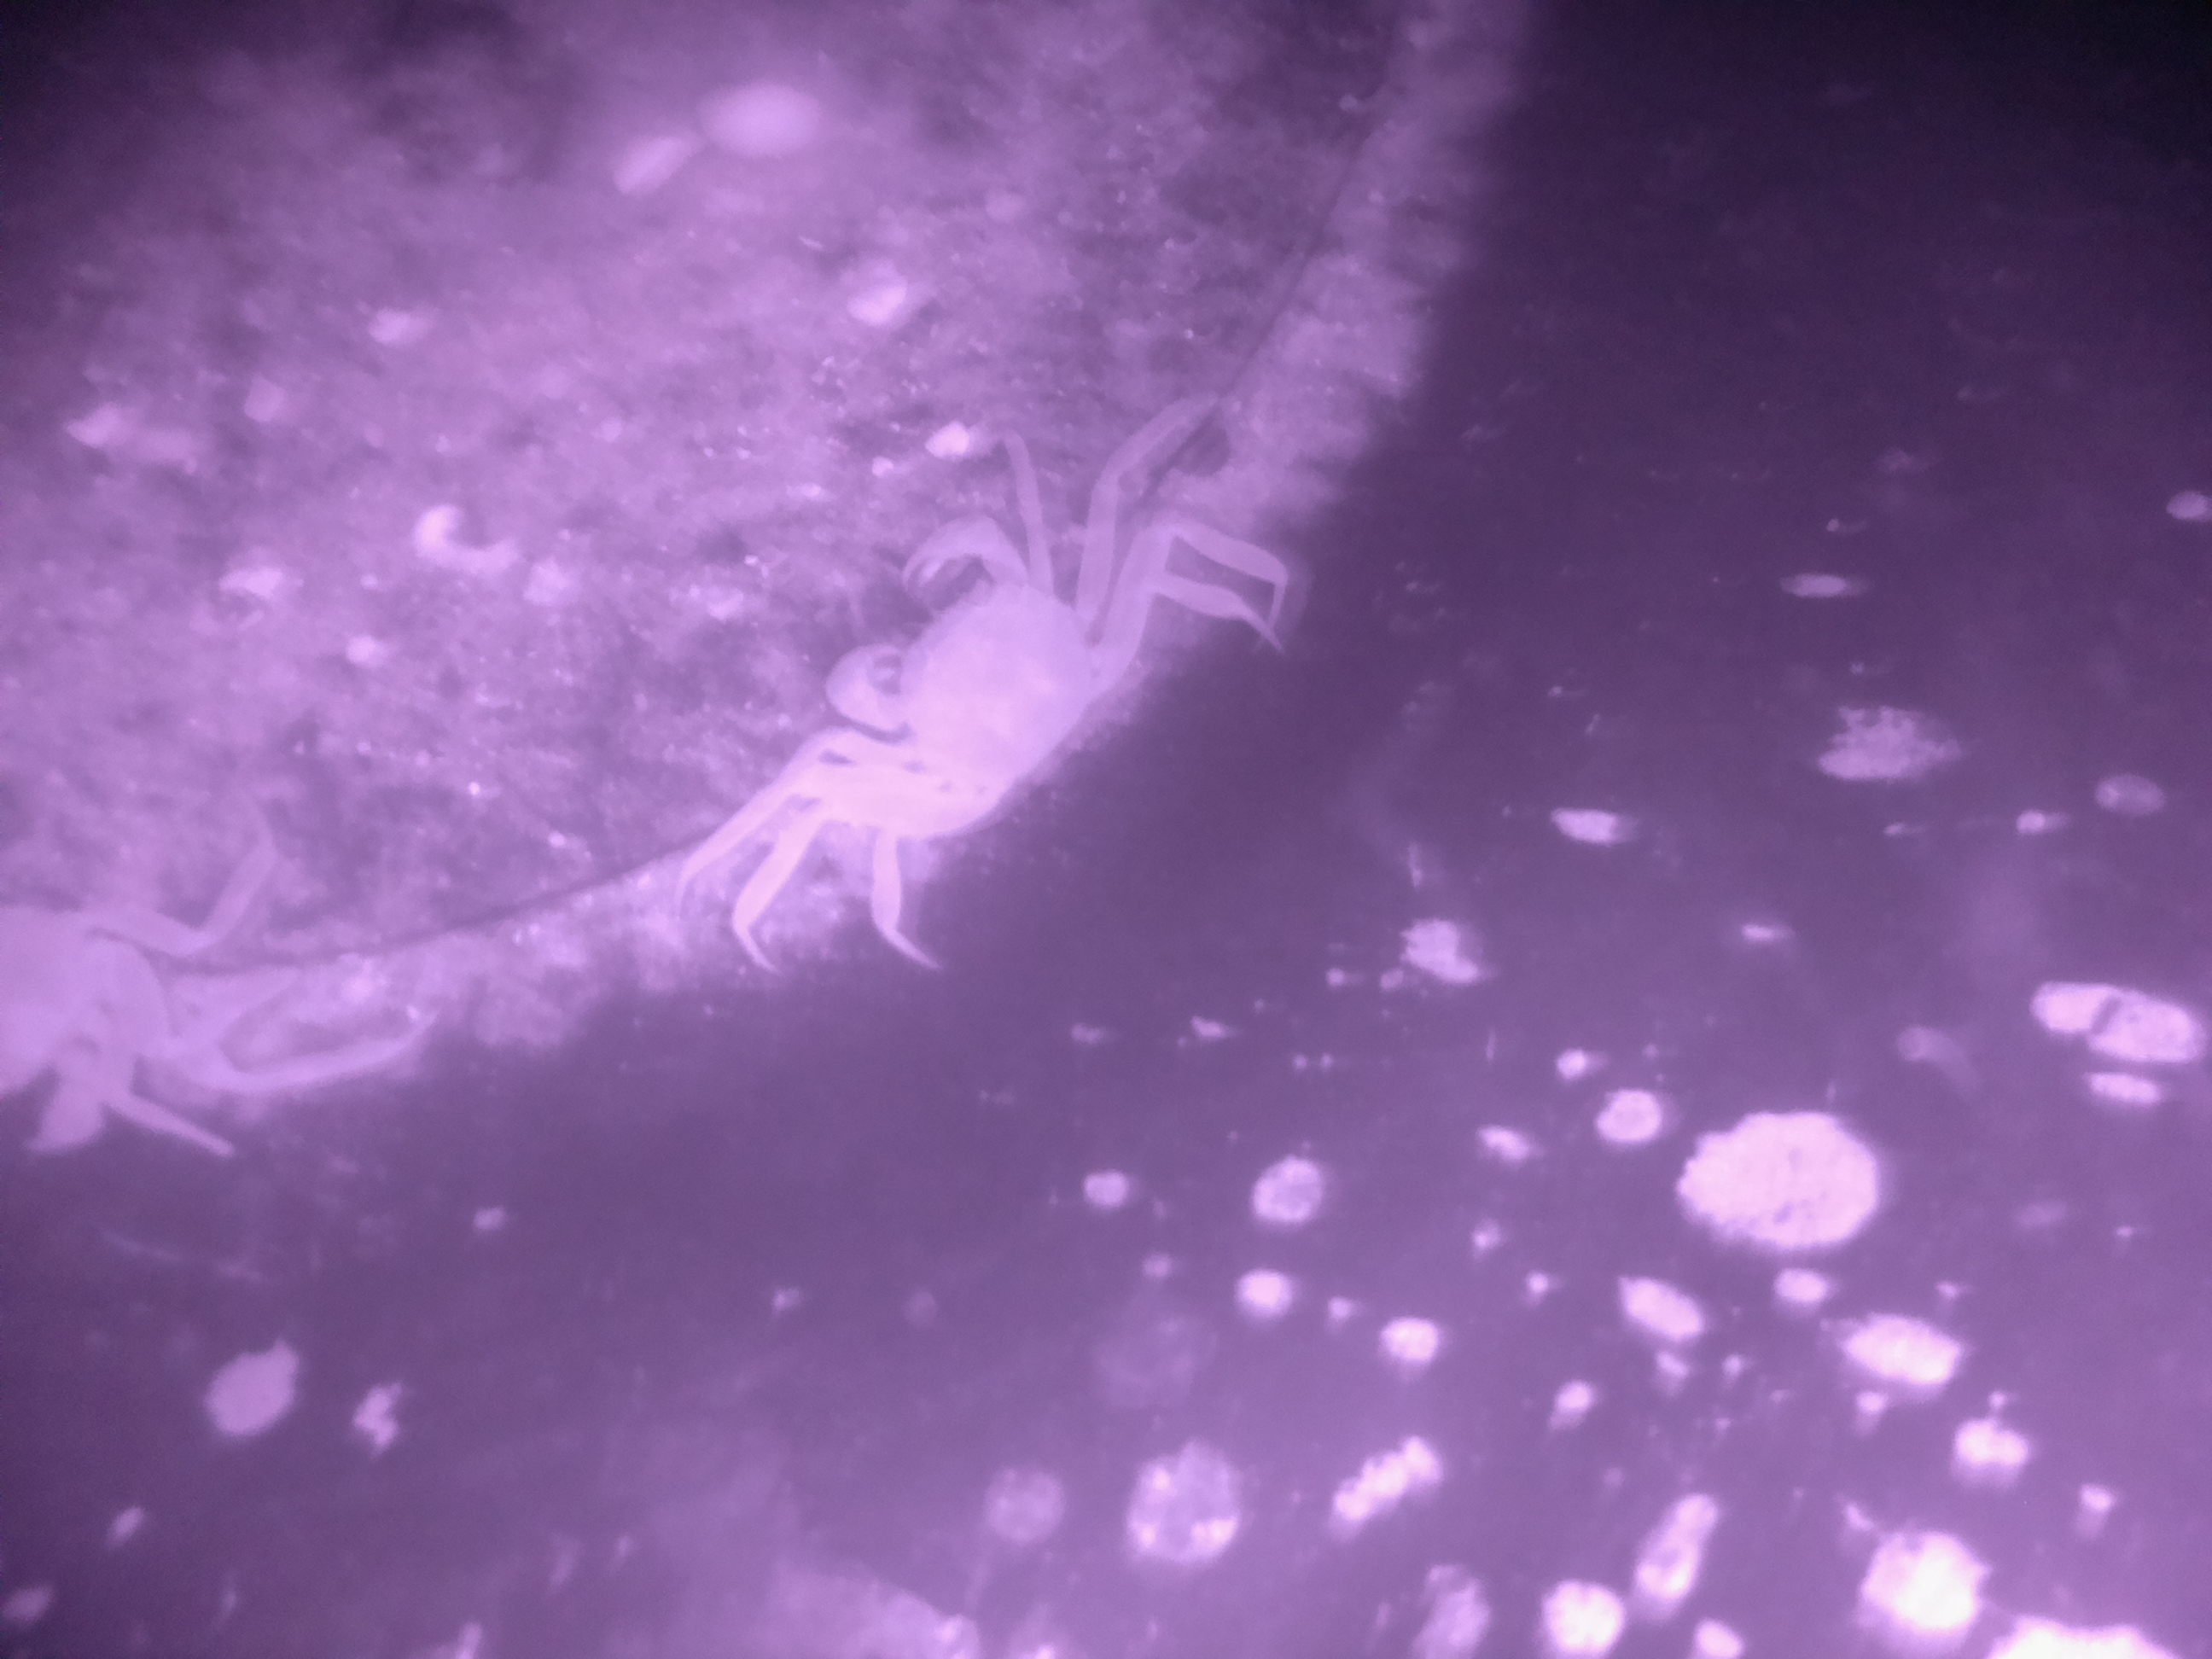Crab: (747, 483, 1216, 889)
